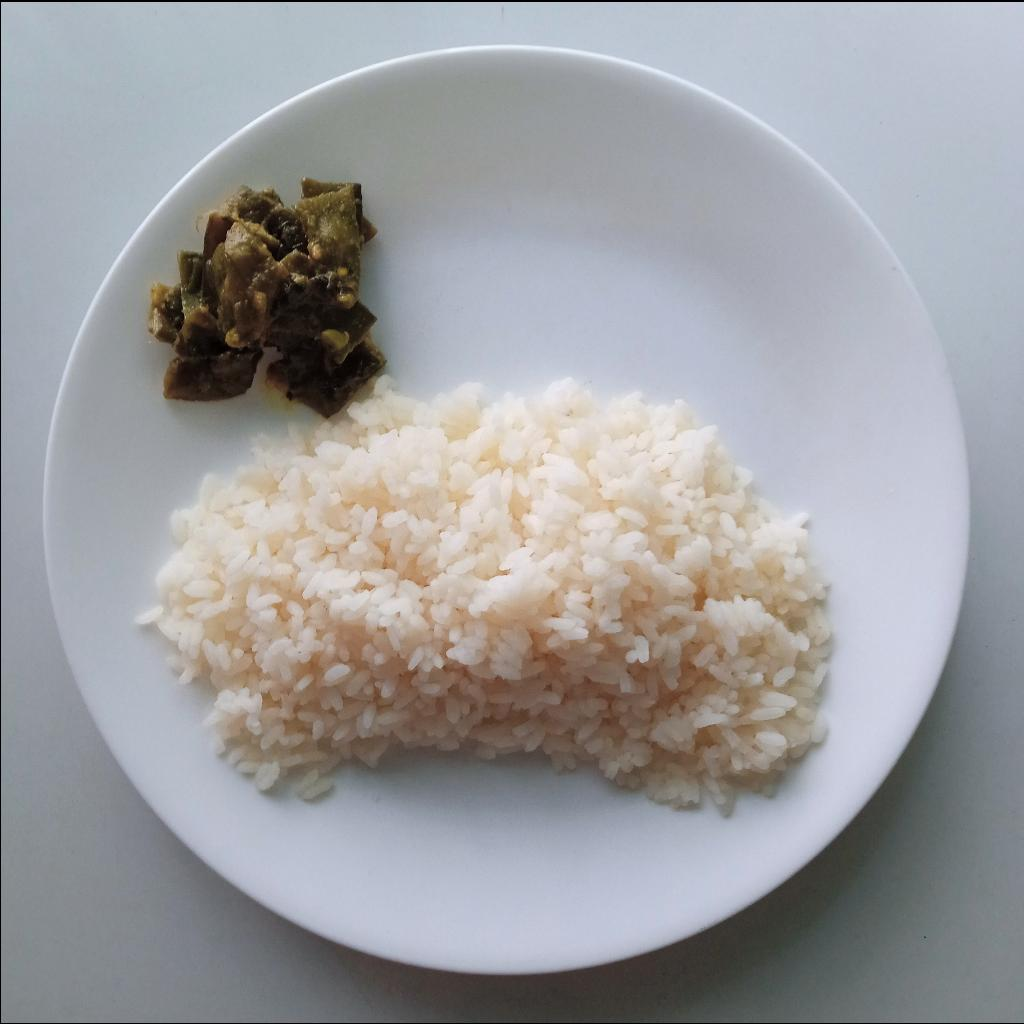rice: (140, 378, 830, 819)
shim: (144, 177, 387, 422)
